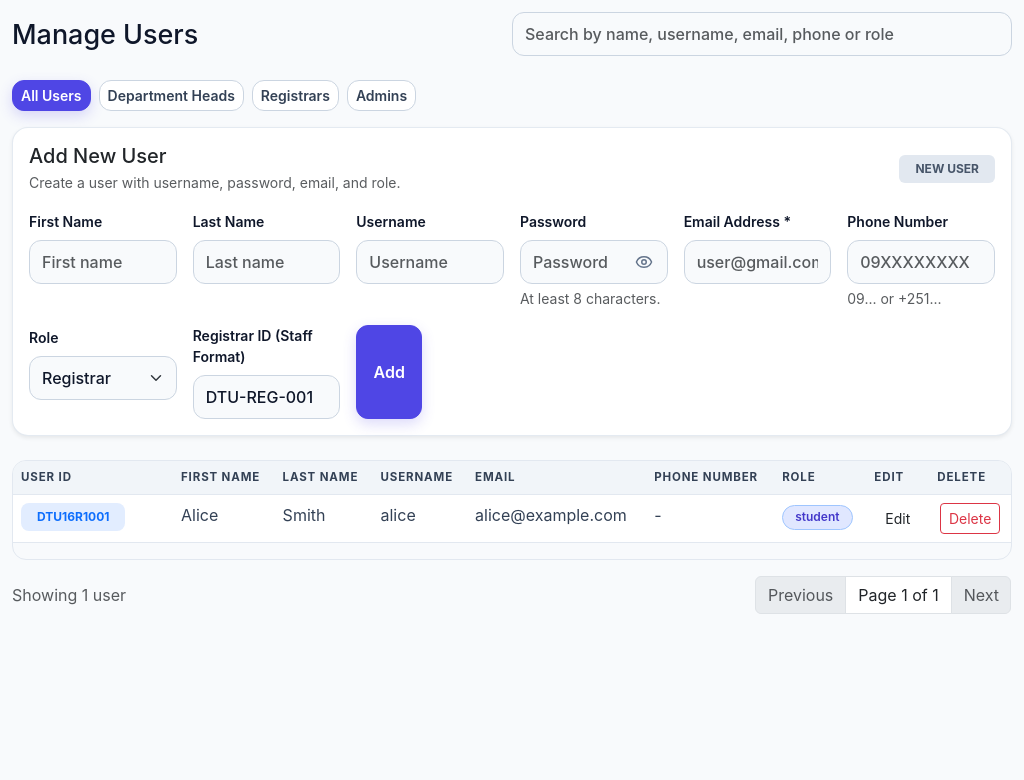
Test: ManageUsers › updates a user when save is clicked
The image size is (1024, 780).
Check: the text "alice" is shown, box [372,495,467,543]
Click the button "Edit": {"x": 898, "y": 519} [876,503,919,534]
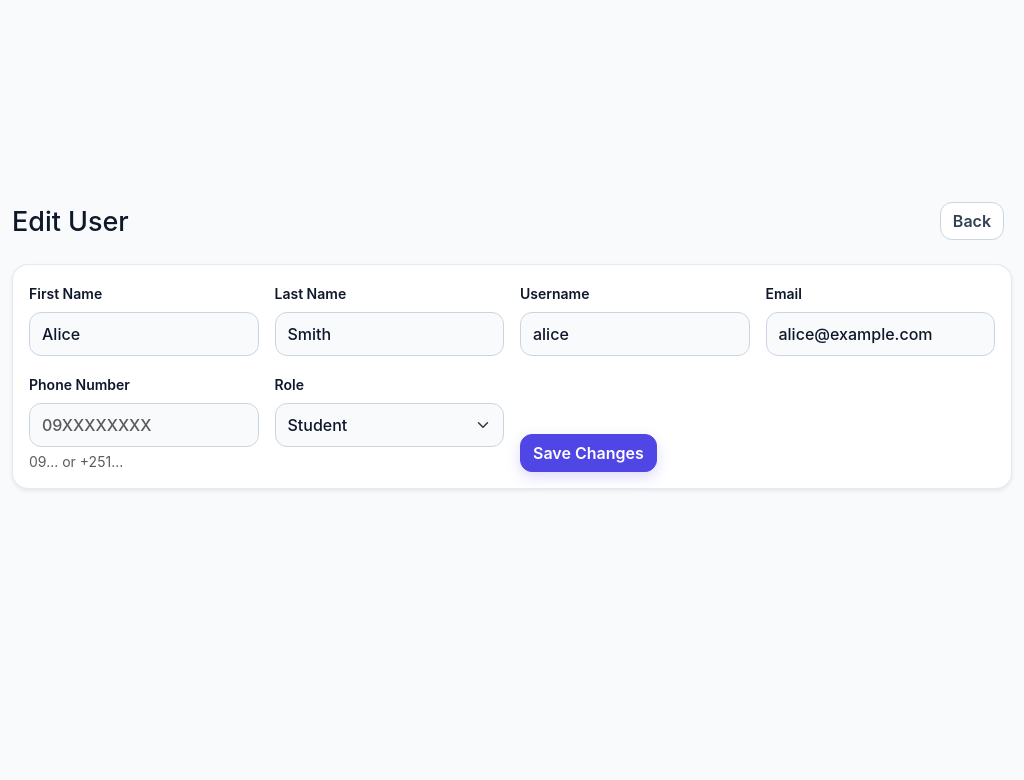
Check: the heading "Edit User" is shown, box [12,205,129,237]
Replace the text in the field labelled "First Name" with "Alicia": {"x": 144, "y": 334} [29,312,258,356]
Replace the text in the field labelled "Last Name" with "Jones": {"x": 389, "y": 334} [274,312,504,356]
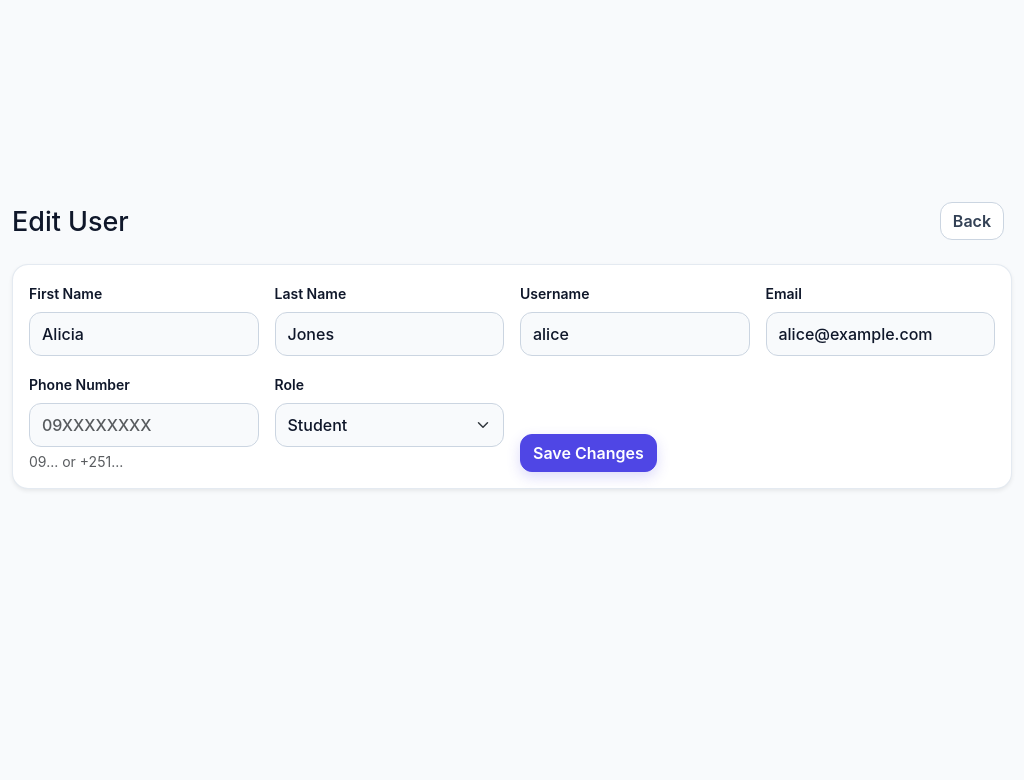
Replace the text in the field labelled "Username" with "alice2": {"x": 635, "y": 334} [520,312,750,356]
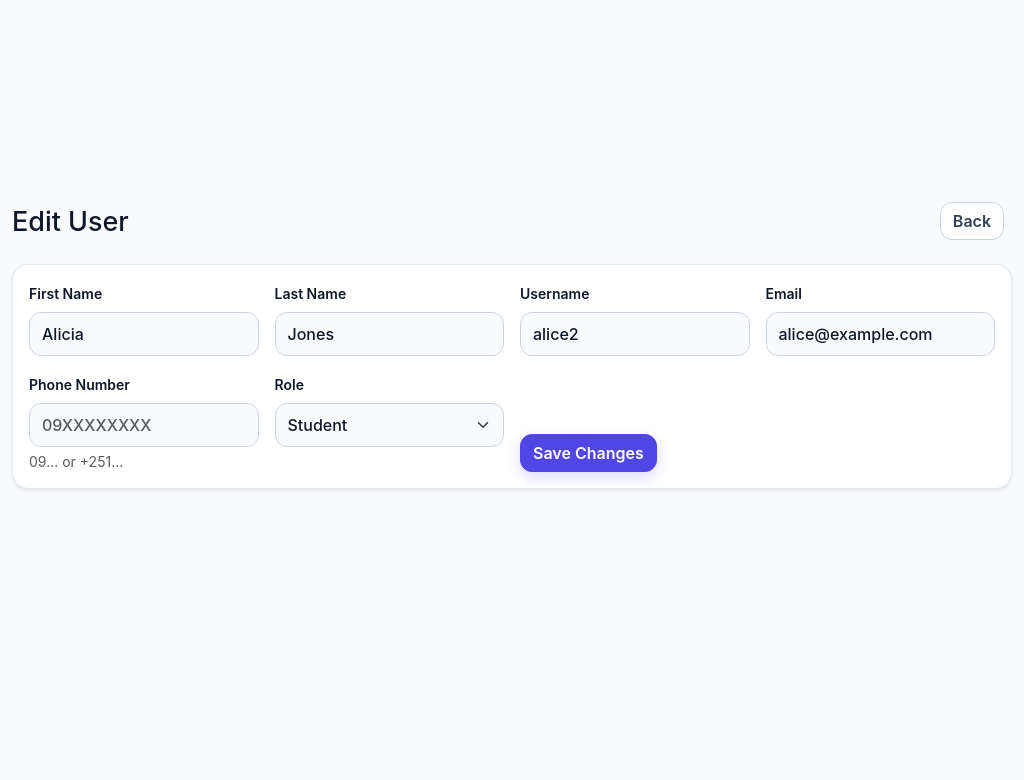
Replace the text in the field labelled "Email" with "alice2@gmail.com": {"x": 880, "y": 334} [766,312,995,356]
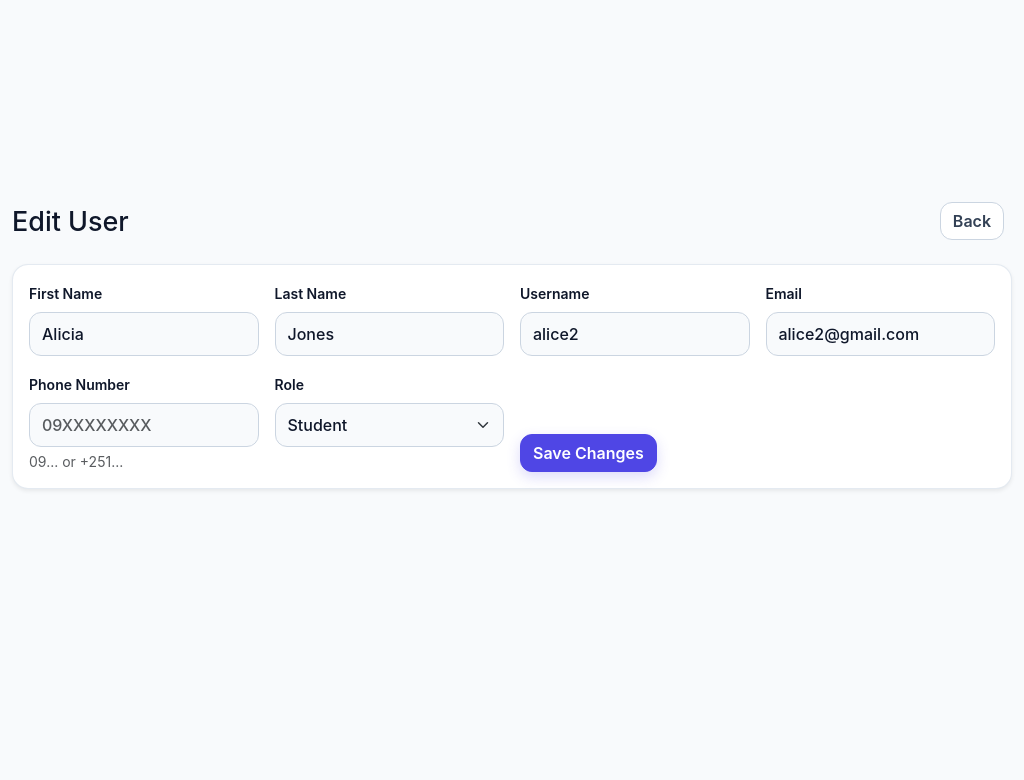
Select "Admin" in the dropdown labelled "Role": {"x": 389, "y": 425} [274,403,504,447]
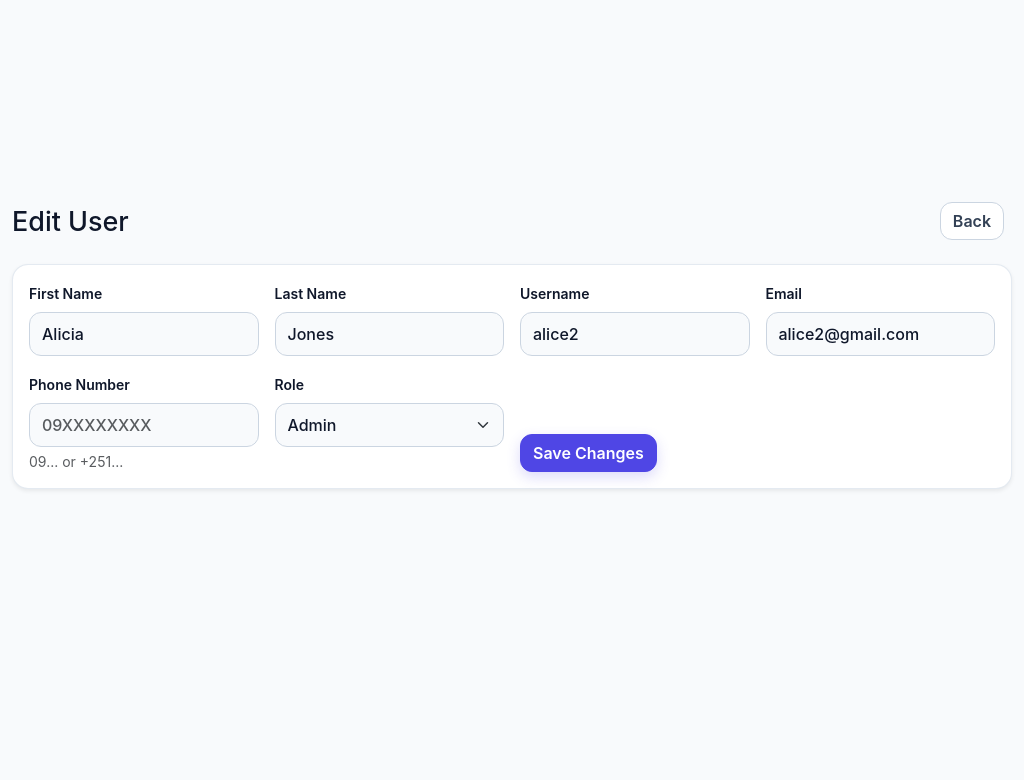
Click the button "Save Changes": {"x": 588, "y": 453} [520,434,657,472]
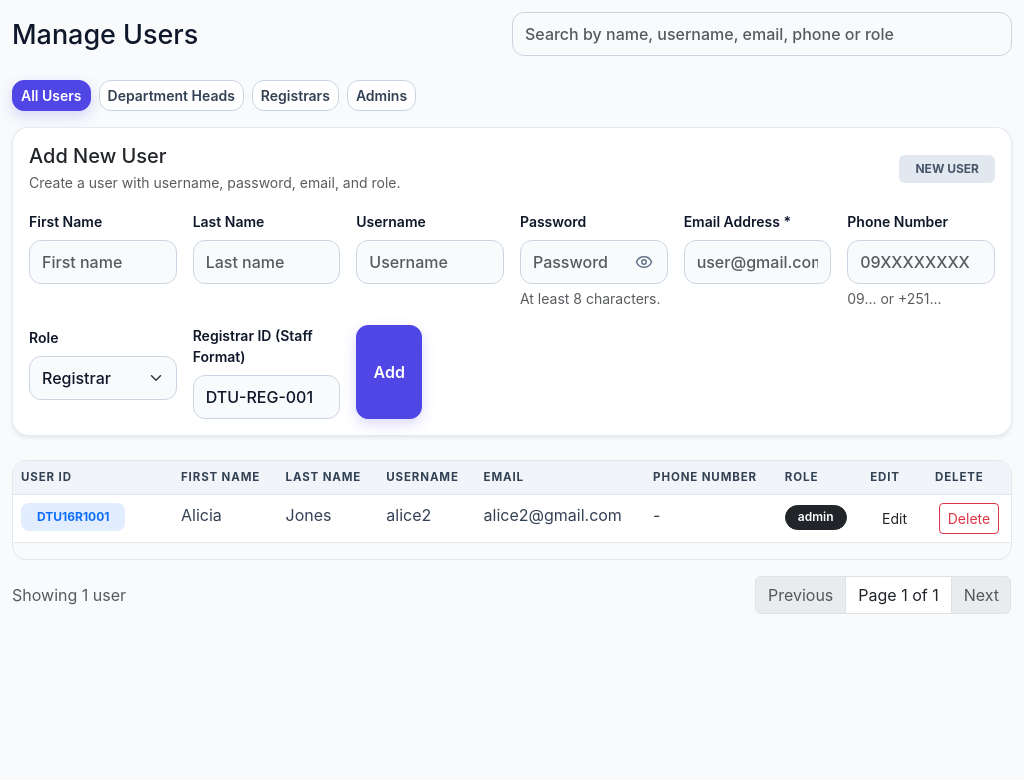
Check: the text "alice2" is shown, box [378,495,476,543]
Check: the column heading "First Name" is shown, box [173,461,278,495]
Check: the column heading "Last Name" is shown, box [278,461,378,495]
